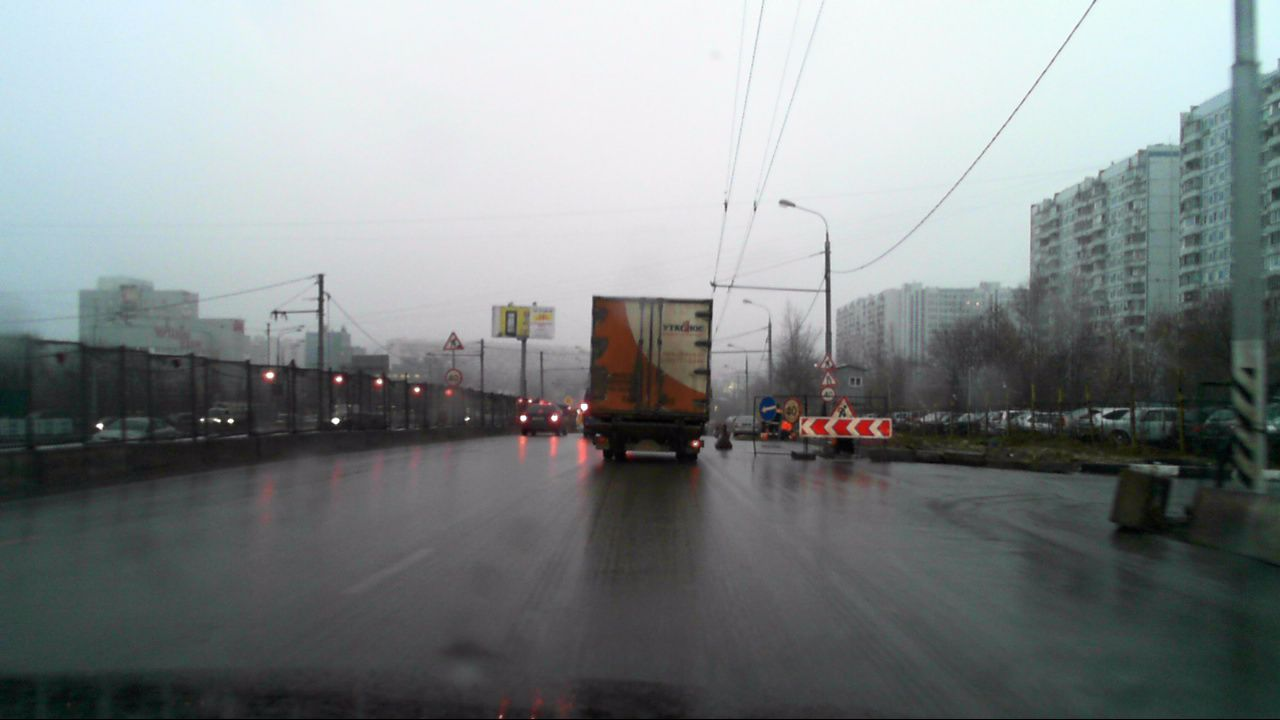Turn Left: (759, 397, 777, 421)
